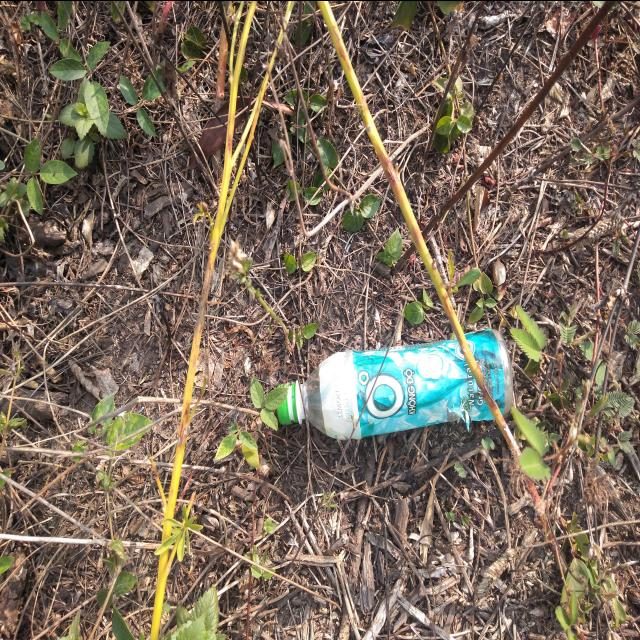Plastic bottle cap: (277, 383, 291, 424)
